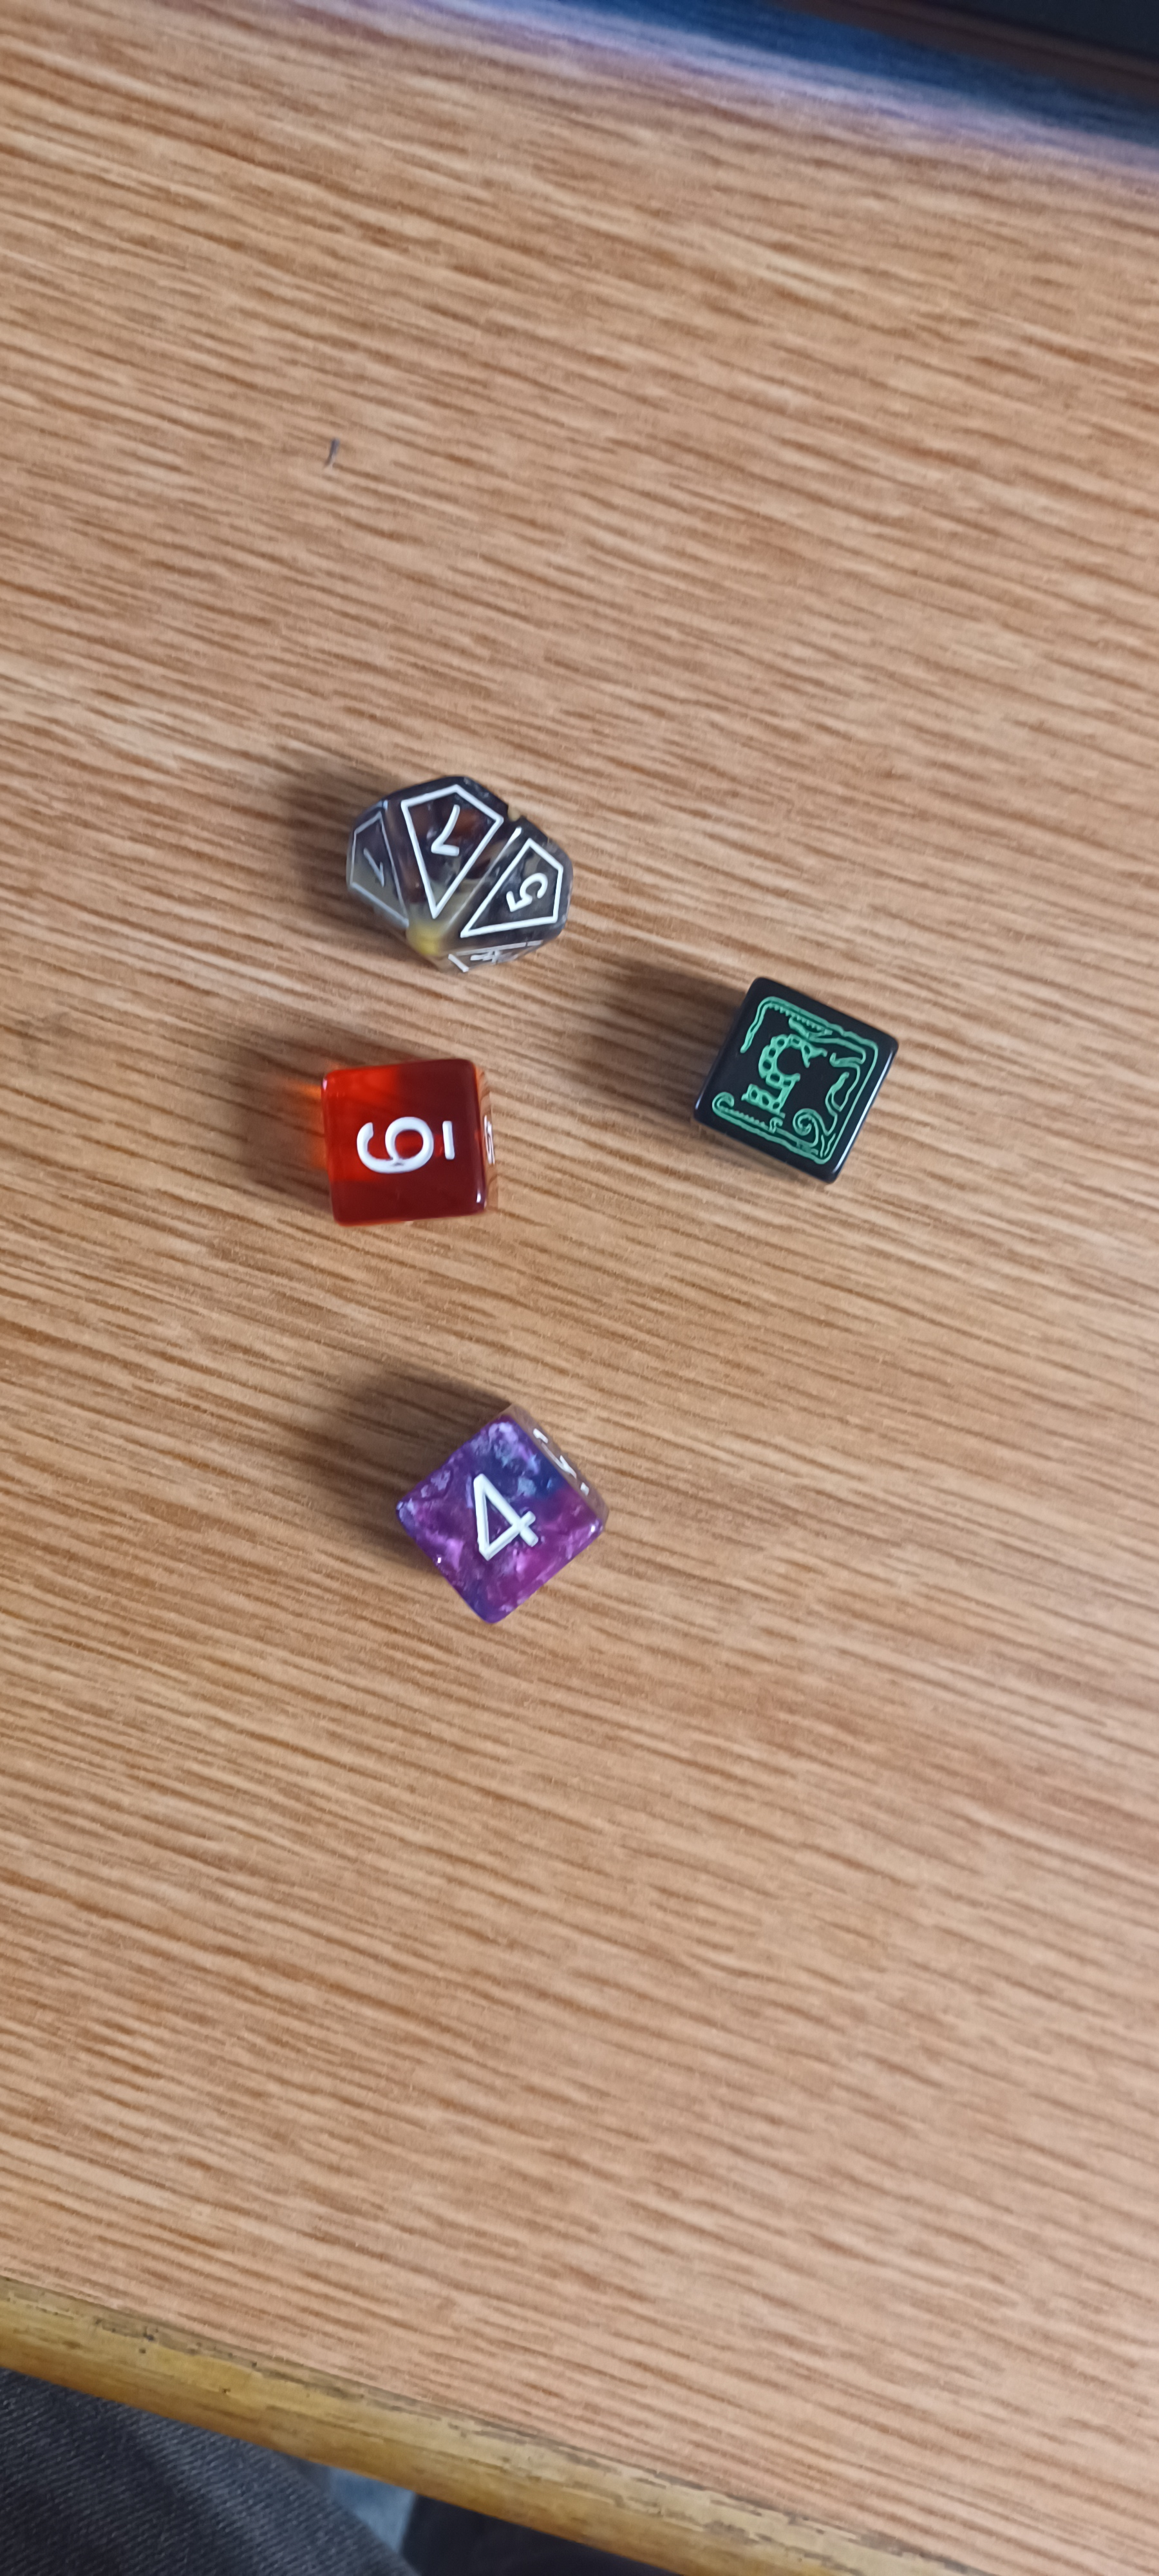five: (637, 951, 928, 1212)
four: (368, 1375, 639, 1638)
seven: (315, 741, 591, 987)
six: (276, 1035, 534, 1237)
